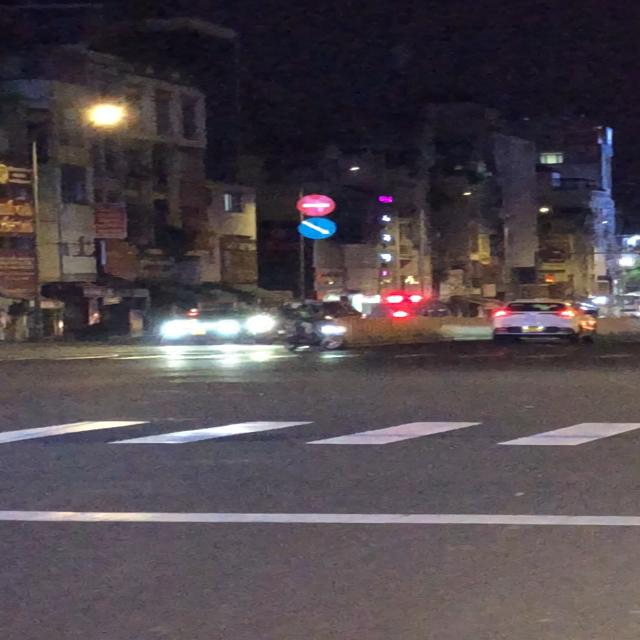Bien bao cam di nguoc chieu: (296, 192, 338, 216)
Bien bao huong phai di vong chuong ngai vat: (297, 217, 339, 241)
